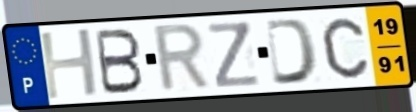B: (94, 28, 146, 97)
C: (319, 16, 371, 81)
D: (263, 16, 321, 87)
H: (37, 26, 103, 103)
R: (152, 21, 214, 96)
Z: (204, 19, 263, 90)
